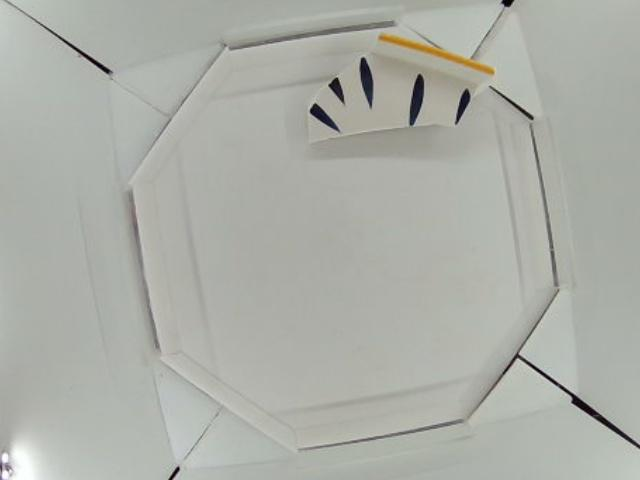China: (308, 31, 494, 146)
